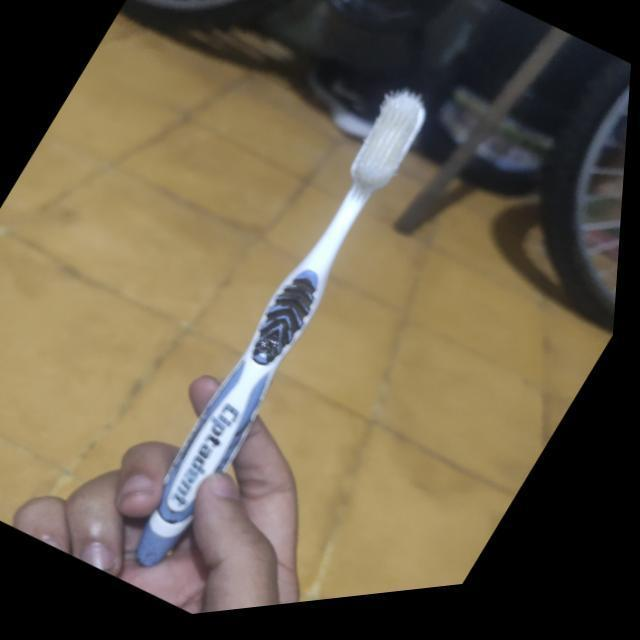toothbrush: (95, 69, 477, 611)
